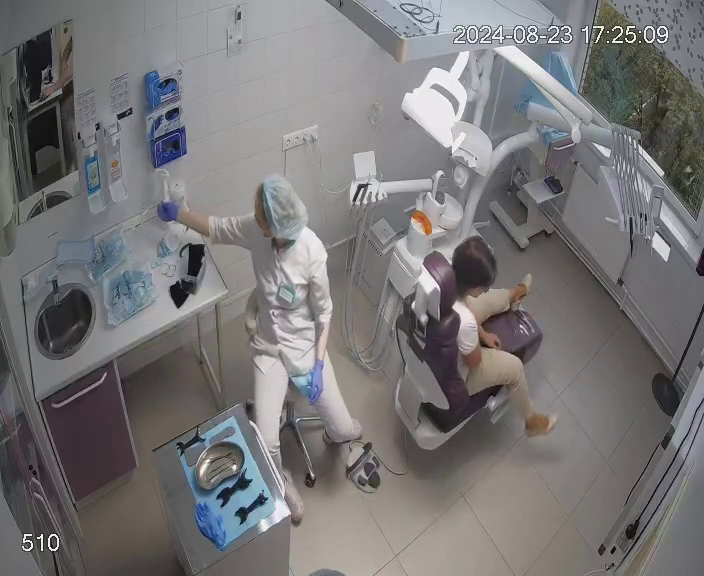Empty: (388, 235, 560, 456)
